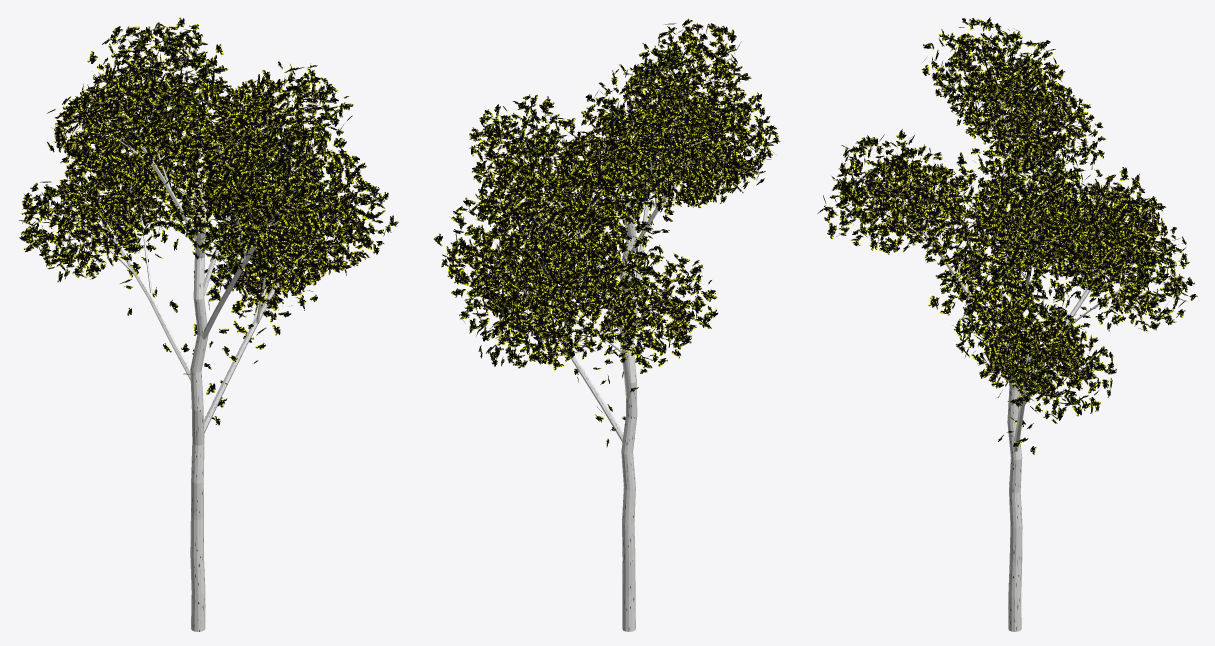
The model's file is birch_pale_v02.fbx.
3 views of the same model, side by side, from view 1: azimuth 30°, elevation 25°; view 2: azimuth 150°, elevation 25°; view 3: azimuth 270°, elevation 25° (orthographic). The views are drawn at different scales.
Parts seen in each view (by area): view 1: birch_pale_v02; view 2: birch_pale_v02; view 3: birch_pale_v02.
Part boxes in pixels (x1,y1,x2,y2): birch_pale_v02: [19, 17, 398, 631]; birch_pale_v02: [433, 18, 780, 631]; birch_pale_v02: [817, 17, 1197, 631].
Size of the model in its own units: 1058 by 1100 by 1845.
2 materials, 2 textured.
